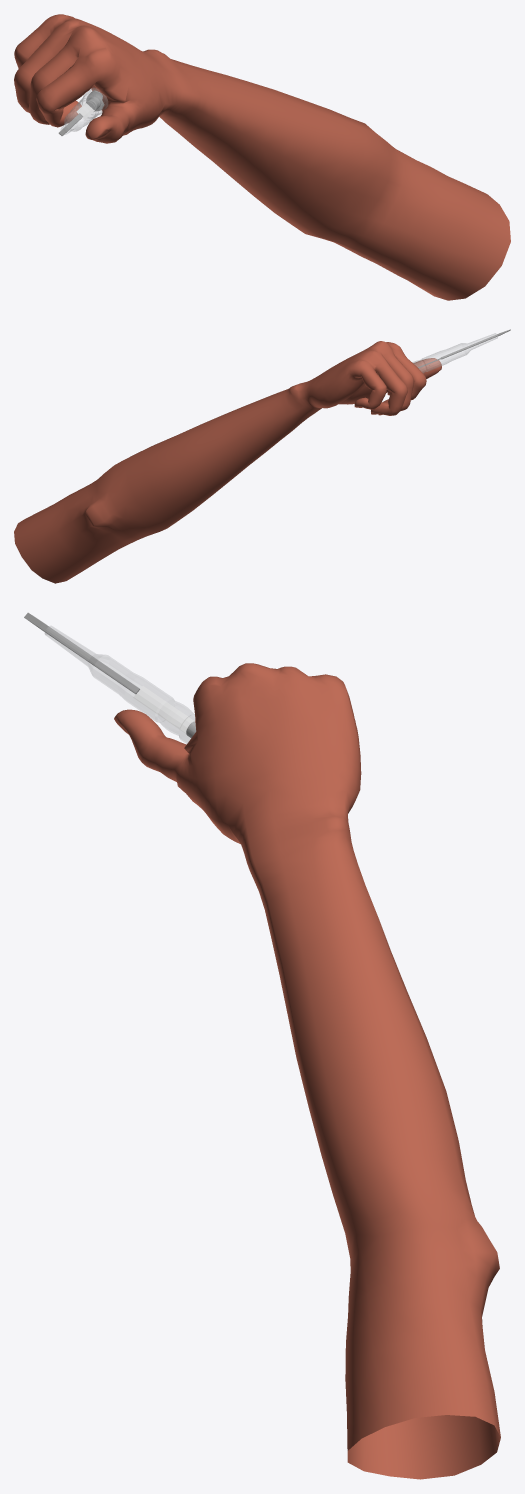
Rendered from arm and instrument.glb.
The picture shows the model from 3 angles, top to bottom: view 1: azimuth 30°, elevation 25°; view 2: azimuth 150°, elevation 25°; view 3: azimuth 270°, elevation 25°; orthographic projection. The views are drawn at different scales.
Parts seen in each view (by area): view 1: Рука с отверткой; view 2: Рука с отверткой; view 3: Рука с отверткой.
Part boxes in pixels (box(x1,y1,x2,y2)): Рука с отверткой: box(14, 14, 510, 300); Рука с отверткой: box(14, 329, 510, 583); Рука с отверткой: box(24, 612, 500, 1479).
Size of the model in its own units: 0.2786 by 0.1881 by 0.1481.
